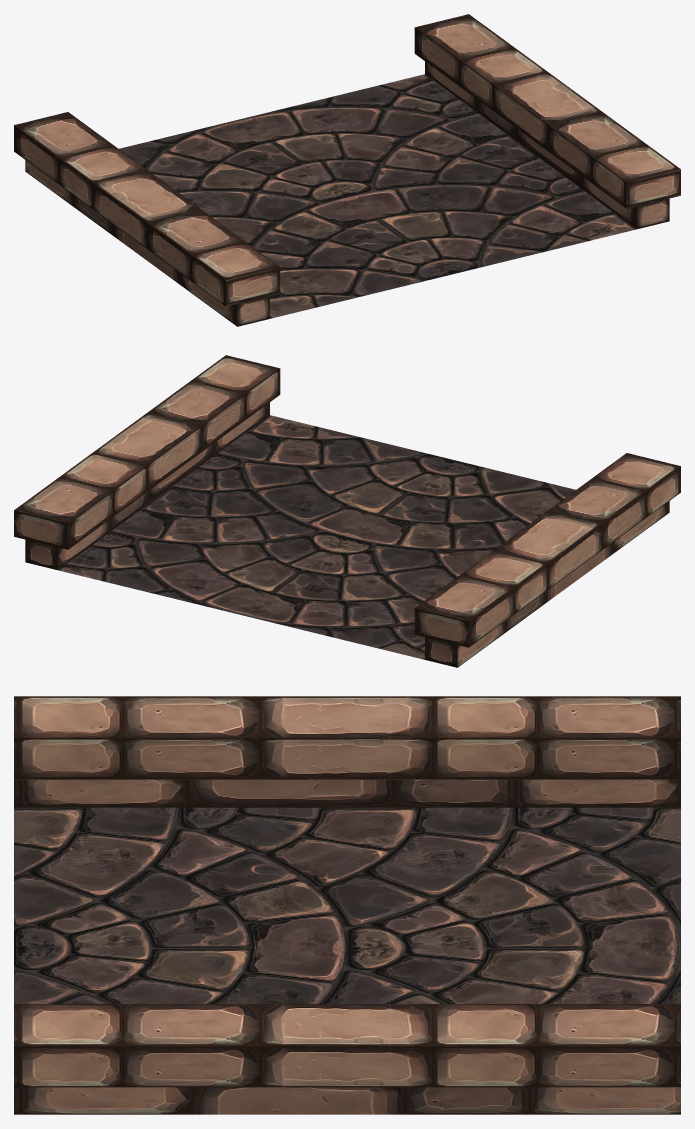
Rendered from Adr_Suelo_005_B.fbx.
3 renders of one model, top to bottom at view 1: azimuth 30°, elevation 25°; view 2: azimuth 150°, elevation 25°; view 3: azimuth 270°, elevation 25°, orthographic. The views are drawn at different scales.
Visible parts, largest first — view 1: Adr_Suelo_005_B; view 2: Adr_Suelo_005_B; view 3: Adr_Suelo_005_B.
Part boxes in pixels (bbox=[...]): Adr_Suelo_005_B: bbox=[14, 14, 680, 326]; Adr_Suelo_005_B: bbox=[14, 355, 680, 667]; Adr_Suelo_005_B: bbox=[14, 696, 680, 1114].
Size of the model in its own units: 619 by 64.12 by 500.
